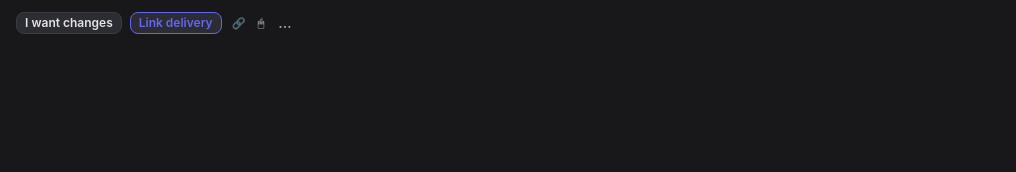
IntentTitleBarActions.vue — 「…」溢出菜单 › 把「取消」「删除」收进菜单,标题栏表面不再直接渲染
This screenshot has width=1016, height=172.
Click the button with test id "intent-detail-more" at (285, 23), box x1=274 y1=12 x2=296 y2=34
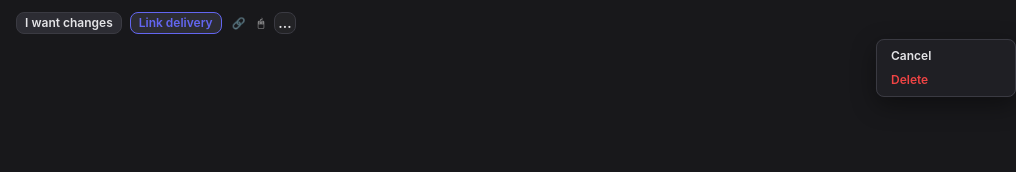
Check: the element with test id "intent-detail-more-menu" is shown, box x1=876 y1=39 x2=1015 y2=97
Check: the button with test id "intent-detail-cancel" is shown, box x1=881 y1=44 x2=1011 y2=68
Check: the button with test id "intent-detail-delete" is shown, box x1=881 y1=68 x2=1011 y2=92
